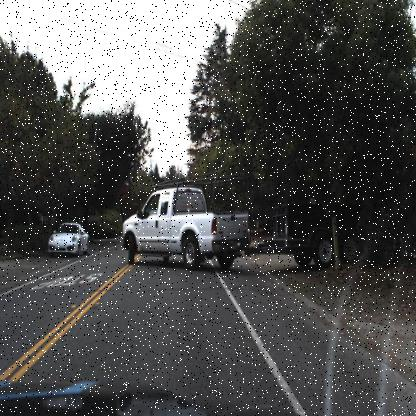car: (122, 185, 370, 262), (48, 221, 87, 256)
